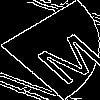M: (24, 25, 100, 86)
